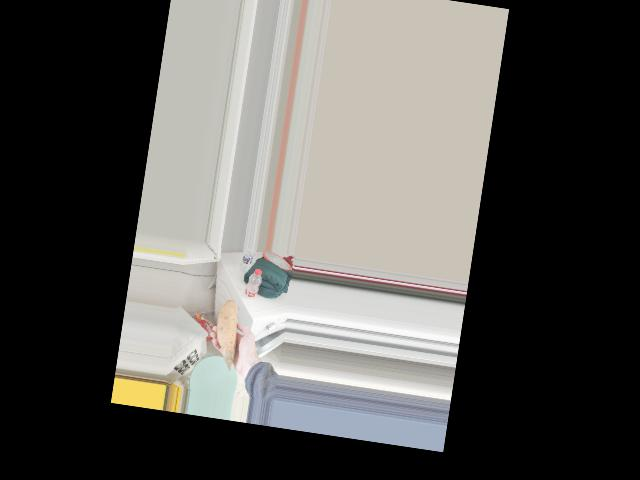sweet_potato: (210, 299, 242, 360)
